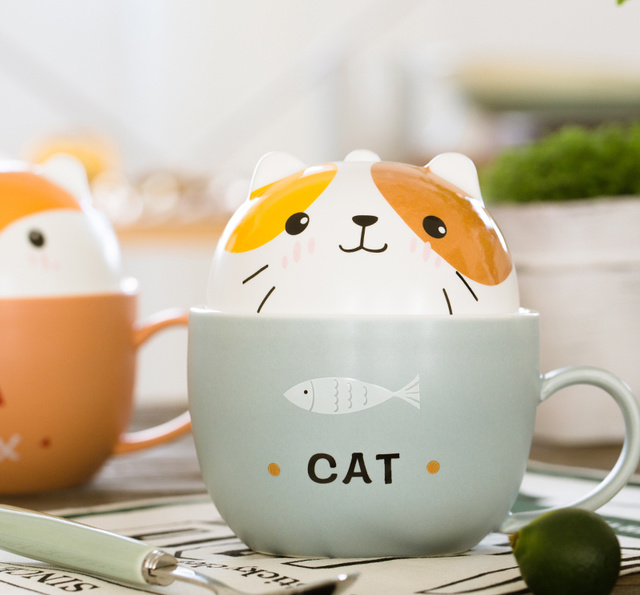cup: (187, 148, 639, 557)
